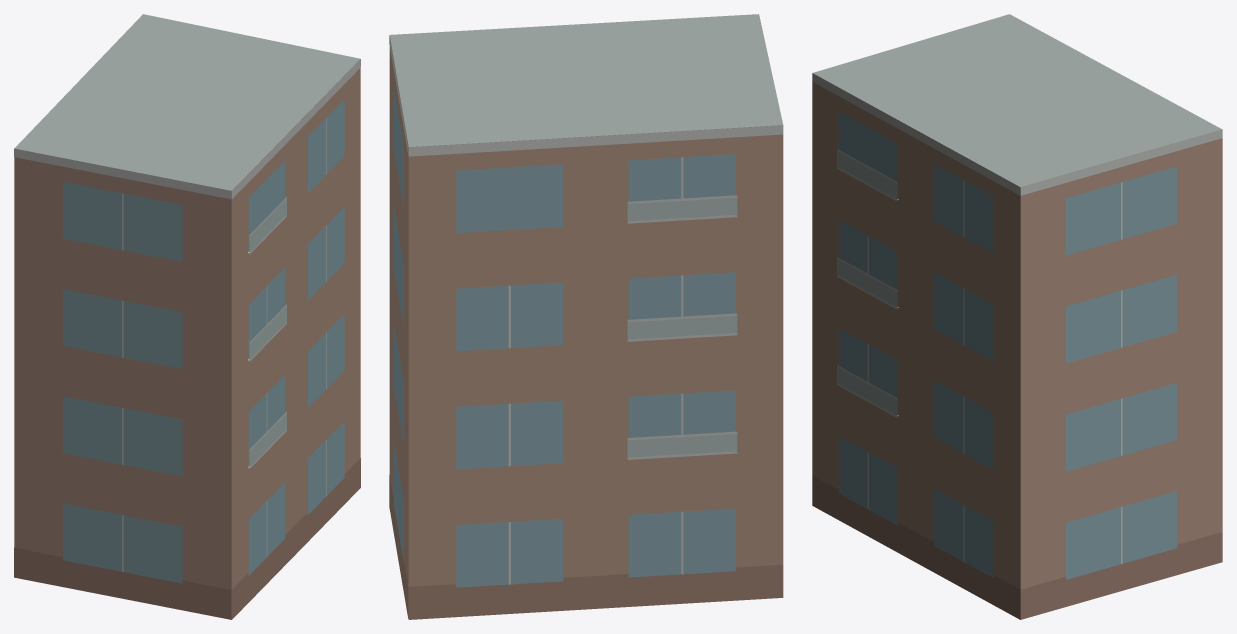
File: survey-upis-32931122.glb
3 views of the same model, side by side, from view 1: azimuth 30°, elevation 25°; view 2: azimuth 150°, elevation 25°; view 3: azimuth 270°, elevation 25° (orthographic). The views are drawn at different scales.
Visible parts, largest first — view 1: survey-upis-32931122.tmp; view 2: survey-upis-32931122.tmp; view 3: survey-upis-32931122.tmp.
Part boxes in pixels (x1,y1,x2,y2): survey-upis-32931122.tmp: (14,14,360,619); survey-upis-32931122.tmp: (389,14,783,619); survey-upis-32931122.tmp: (812,14,1222,619).
Bounding box in the file's own units: 10.48 × 12.2 × 10.49.
